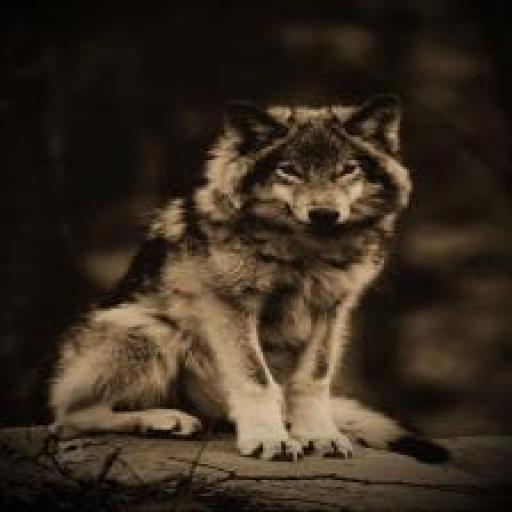wolf: (41, 89, 457, 474)
